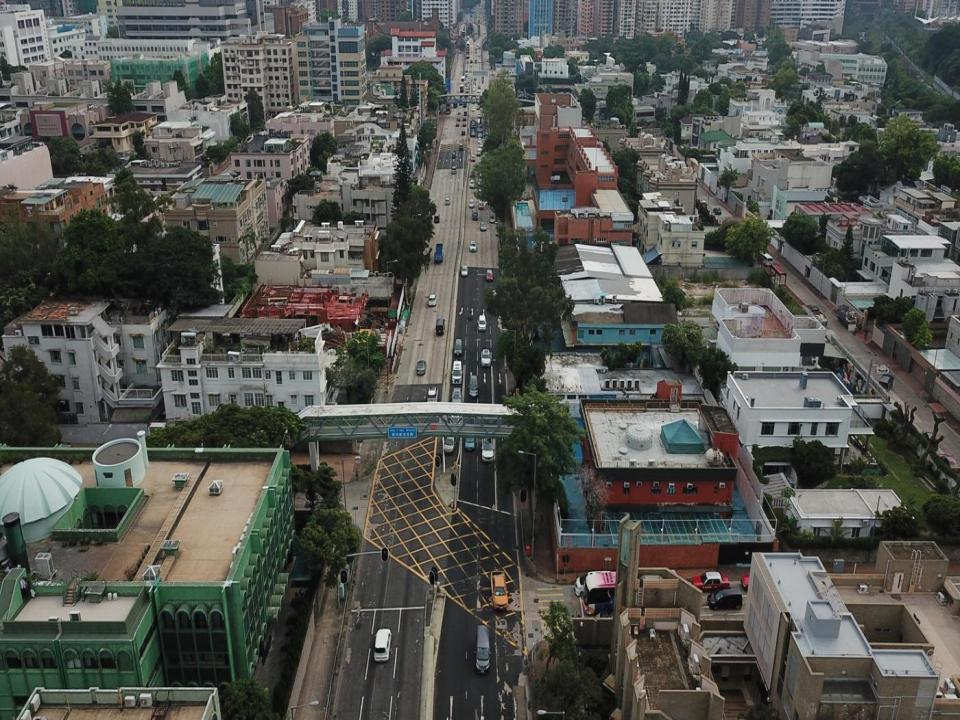bus: (581, 570, 684, 618), (753, 242, 774, 269)
car: (708, 588, 742, 612), (741, 569, 776, 590), (490, 570, 508, 610), (691, 572, 728, 591), (373, 628, 392, 663), (934, 453, 960, 475), (481, 430, 494, 462), (463, 421, 476, 448), (443, 429, 455, 453), (480, 349, 492, 366), (470, 374, 479, 395), (454, 337, 463, 357), (451, 412, 460, 432), (415, 360, 426, 376), (429, 386, 438, 405), (452, 388, 461, 406), (428, 293, 437, 306), (470, 240, 478, 252), (486, 267, 493, 280), (712, 206, 723, 214), (471, 117, 479, 127), (477, 198, 485, 208), (470, 127, 476, 138), (470, 176, 476, 187), (480, 221, 487, 230), (462, 266, 468, 276), (450, 164, 456, 174), (488, 214, 495, 222), (461, 121, 467, 130), (470, 152, 476, 160), (469, 198, 474, 207), (462, 115, 467, 123), (477, 188, 482, 196), (478, 174, 483, 182), (446, 196, 450, 204), (455, 122, 460, 128), (452, 153, 457, 158), (459, 140, 462, 148), (461, 130, 465, 136), (456, 117, 460, 122), (464, 108, 466, 115), (455, 110, 459, 112)
truck: (434, 242, 444, 262)
van: (574, 572, 622, 597), (474, 624, 493, 673), (451, 360, 462, 385), (878, 374, 894, 391), (436, 316, 444, 337), (478, 314, 486, 330), (434, 213, 440, 224), (472, 210, 478, 219)
